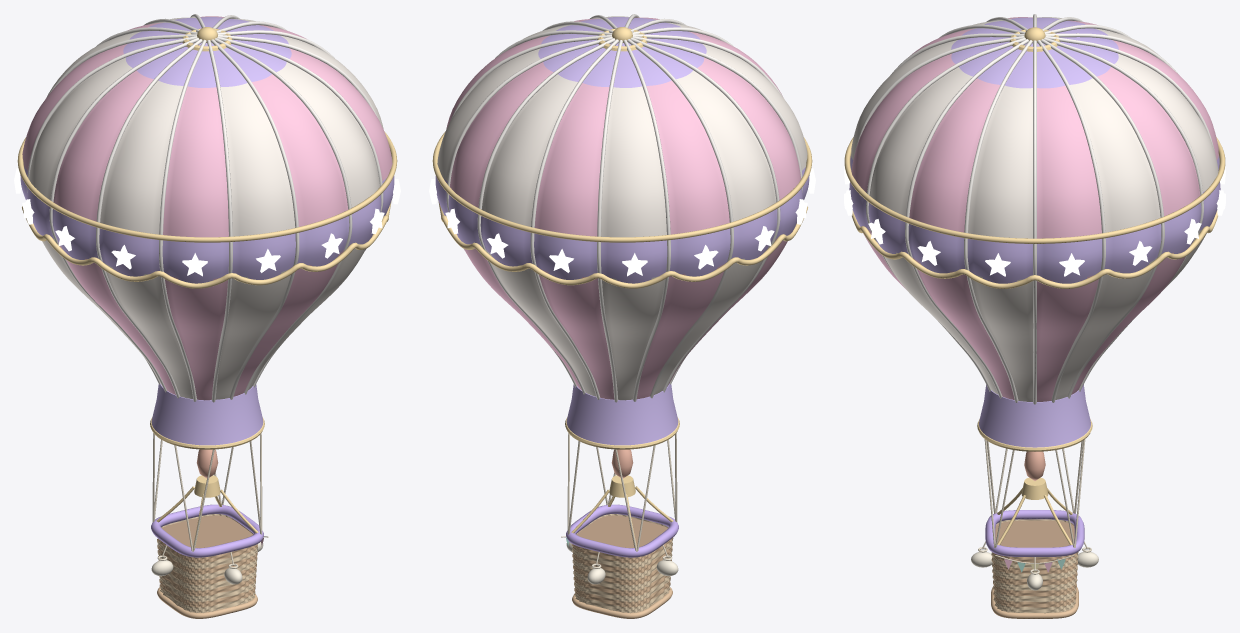
File: HotAirBalloon.fbx
3 views of the same model, side by side, from view 1: azimuth 30°, elevation 25°; view 2: azimuth 150°, elevation 25°; view 3: azimuth 270°, elevation 25° (orthographic).
Visible parts, largest first — view 1: HB_Balloon; view 2: HB_Balloon; view 3: HB_Balloon.
Boxes of the visible parts, x1=… form: HB_Balloon: x1=14, y1=14, x2=400, y2=618; HB_Balloon: x1=429, y1=14, x2=815, y2=618; HB_Balloon: x1=844, y1=14, x2=1225, y2=618.
Size of the model in its own units: 2.12 by 3.52 by 2.12.
